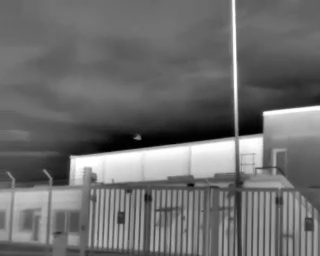HELICOPTER: (131, 130, 146, 144)
